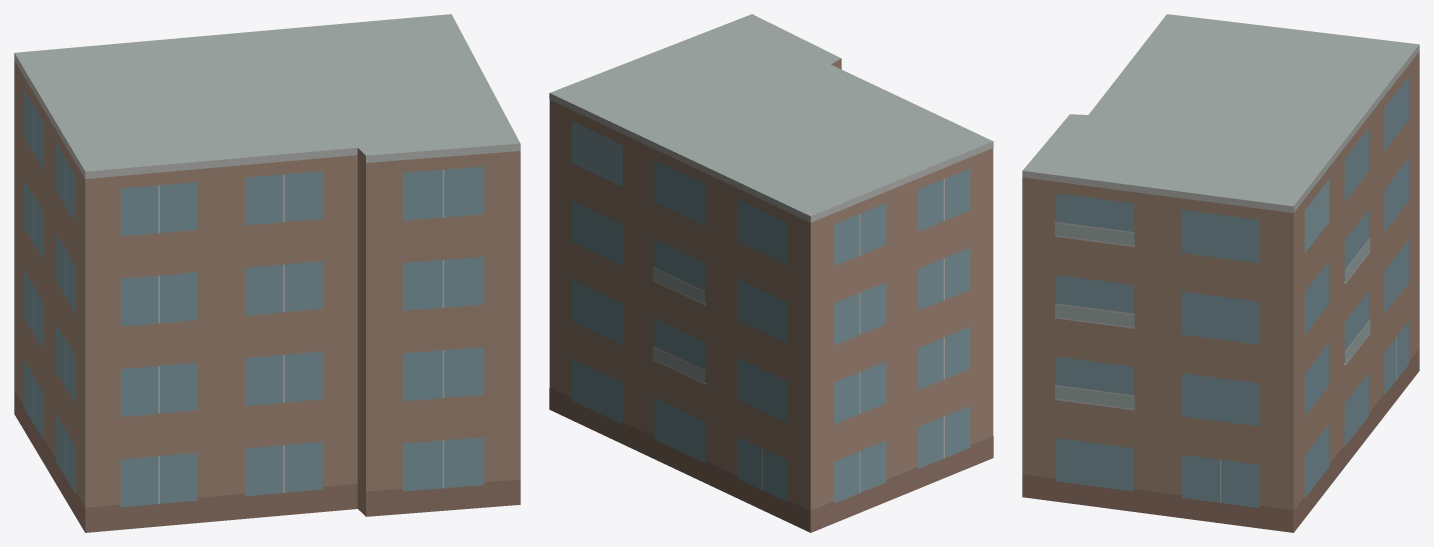
Rendered from survey-upis-32928692.glb.
3 views of the same model, side by side, from view 1: azimuth 30°, elevation 25°; view 2: azimuth 150°, elevation 25°; view 3: azimuth 270°, elevation 25° (orthographic). The views are drawn at different scales.
Visible parts, largest first — view 1: survey-upis-32928692.tmp; view 2: survey-upis-32928692.tmp; view 3: survey-upis-32928692.tmp.
Part boxes in pixels (x1,y1,x2,y2): survey-upis-32928692.tmp: [14, 14, 520, 532]; survey-upis-32928692.tmp: [549, 14, 993, 532]; survey-upis-32928692.tmp: [1022, 14, 1419, 532].
Size of the model in its own units: 15.18 by 12 by 13.24.
